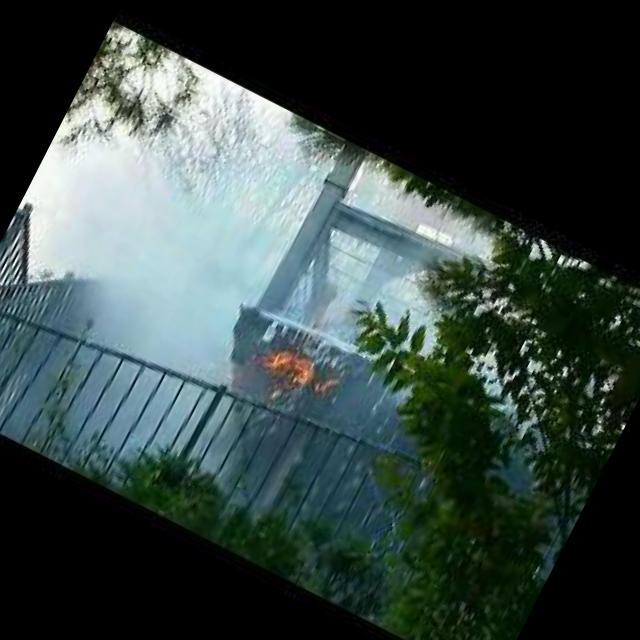fire: (236, 319, 334, 396)
